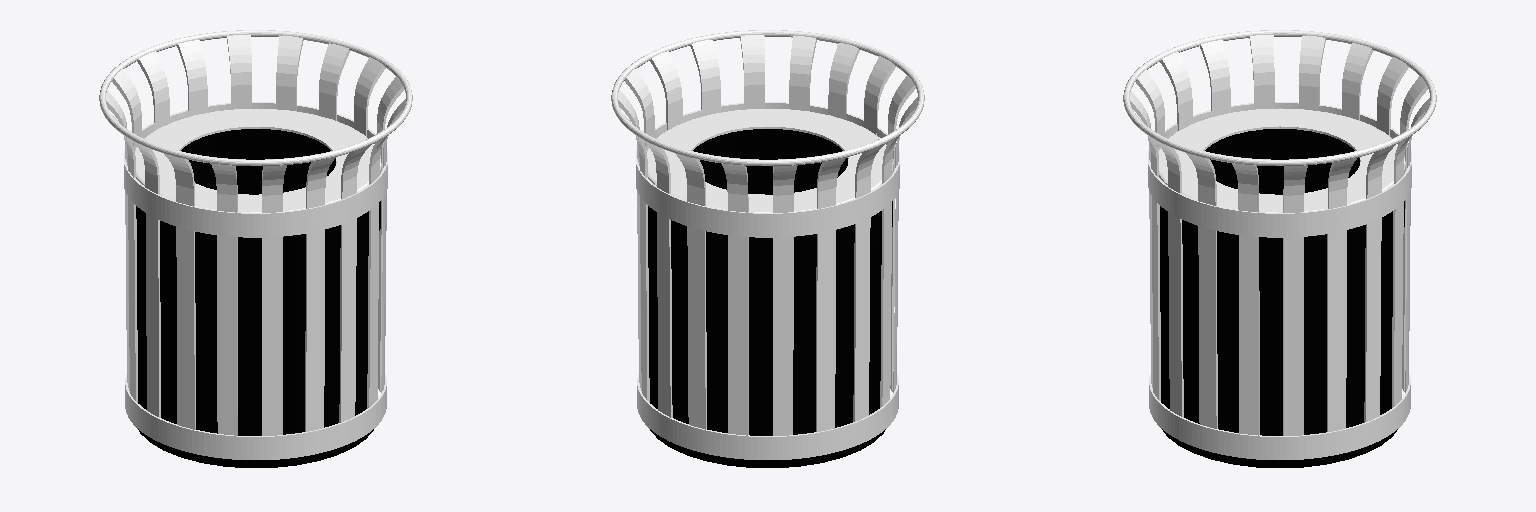
The model's file is trash.obj.
The picture shows the model from 3 angles: view 1: azimuth 30°, elevation 25°; view 2: azimuth 150°, elevation 25°; view 3: azimuth 270°, elevation 25°; orthographic projection.
Visible parts, largest first — view 1: Trashcan_Exterior, Inside_Can; view 2: Trashcan_Exterior, Inside_Can; view 3: Trashcan_Exterior, Inside_Can.
Part boxes in pixels (left/top/right/bottom): Trashcan_Exterior: left=99, top=30, right=412, bottom=459; Inside_Can: left=136, top=129, right=380, bottom=467; Trashcan_Exterior: left=611, top=30, right=924, bottom=459; Inside_Can: left=648, top=129, right=892, bottom=467; Trashcan_Exterior: left=1123, top=30, right=1436, bottom=459; Inside_Can: left=1160, top=129, right=1404, bottom=467.
Size of the model in its own units: 1.35 by 1.53 by 1.35.